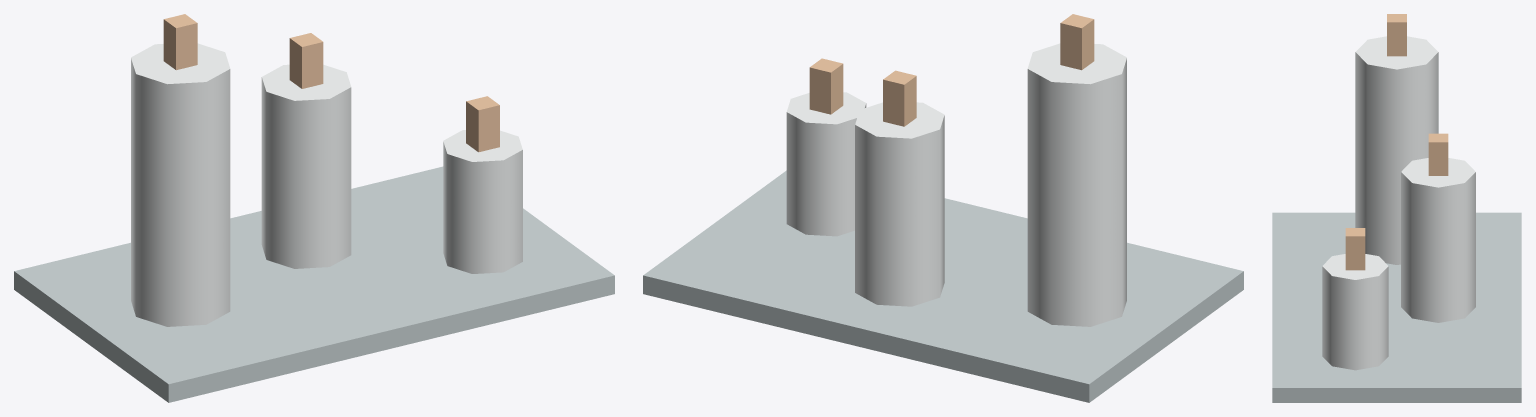
File: candles.glb
3 renders of one model, left to right at view 1: azimuth 30°, elevation 25°; view 2: azimuth 150°, elevation 25°; view 3: azimuth 270°, elevation 25°, orthographic. The views are drawn at different scales.
Visible parts, largest first — view 1: candles; view 2: candles; view 3: candles.
Boxes of the visible parts, x1=… form: candles: x1=14, y1=14, x2=614, y2=402; candles: x1=643, y1=14, x2=1243, y2=402; candles: x1=1272, y1=14, x2=1521, y2=402.
Bounding box in the file's own units: 0.25 × 0.1625 × 0.15.
